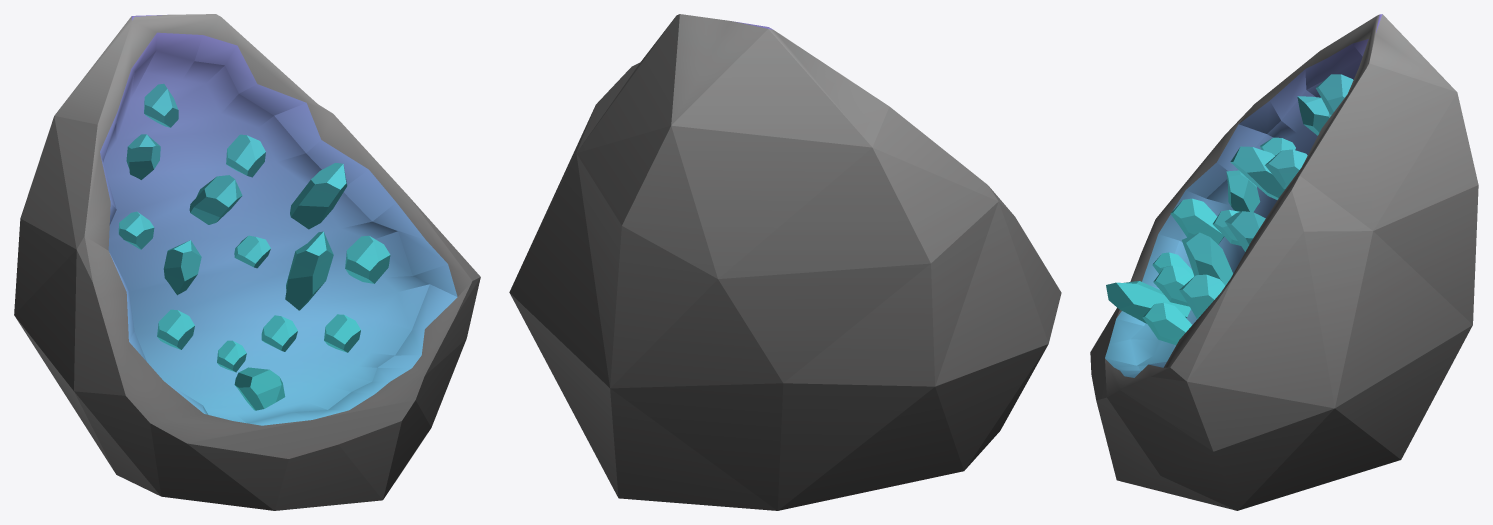
The model's file is Mendiane.glb.
The picture shows the model from 3 angles, left to right: view 1: azimuth 30°, elevation 25°; view 2: azimuth 150°, elevation 25°; view 3: azimuth 270°, elevation 25°; orthographic projection. The views are drawn at different scales.
Parts seen in each view (by area): view 1: crystal_basalt_green.023_SimplePolygonPalette_0; view 2: crystal_basalt_green.023_SimplePolygonPalette_0; view 3: crystal_basalt_green.023_SimplePolygonPalette_0.
Part boxes in pixels (left/top/right/bottom): crystal_basalt_green.023_SimplePolygonPalette_0: left=14, top=14, right=480, bottom=510; crystal_basalt_green.023_SimplePolygonPalette_0: left=509, top=14, right=1061, bottom=510; crystal_basalt_green.023_SimplePolygonPalette_0: left=1090, top=14, right=1478, bottom=510.
Size of the model in its own units: 1.69 by 1.73 by 1.47.
1 material, 1 textured.
